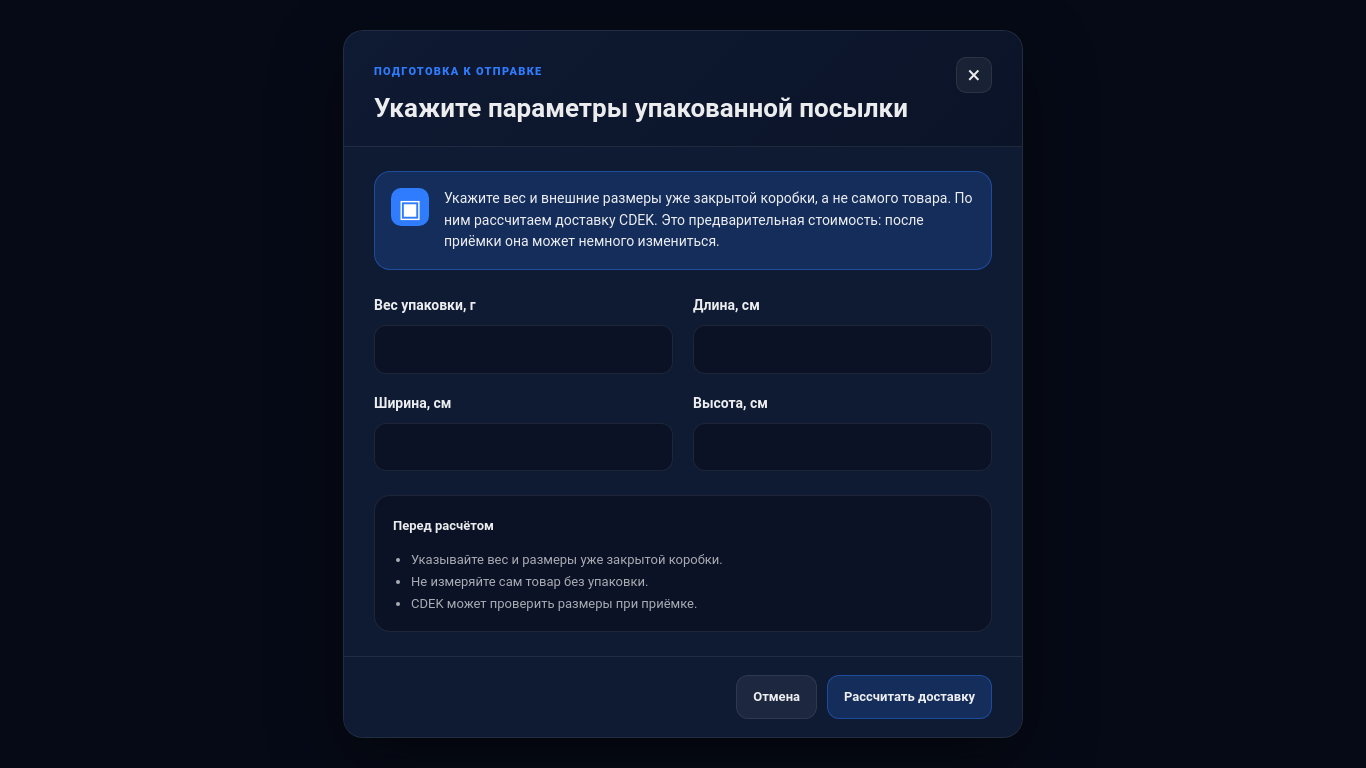
it: PackedOrderModal › shows field errors and does not quote or confirm incomplete measurements
This screenshot has width=1366, height=768.
Step 1. Click the button "Рассчитать доставку" → (910, 697), box [827,675,992,719]
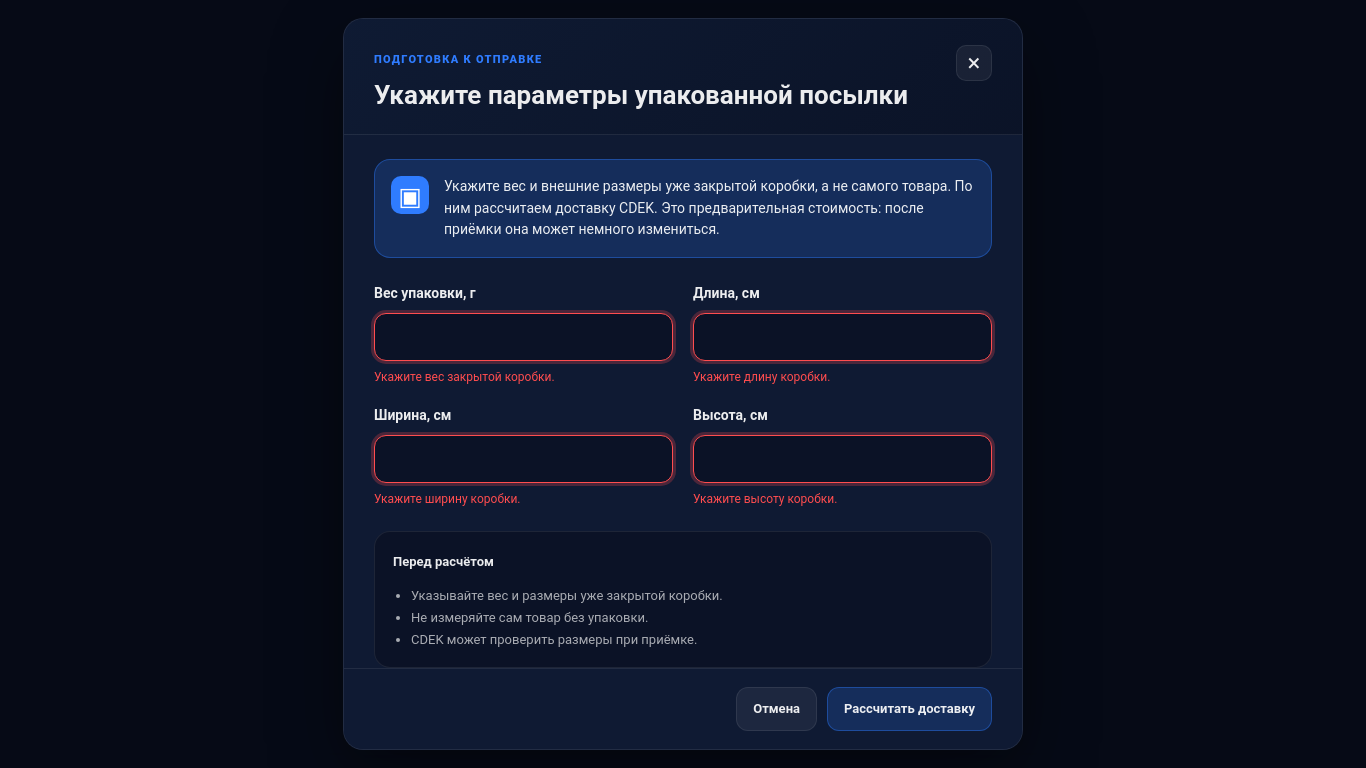
Now the text "Укажите вес закрытой коробки." is shown, box [374,370,554,384]
Now the text "Укажите длину коробки." is shown, box [693,370,830,384]
Now the text "Укажите ширину коробки." is shown, box [374,492,520,506]
